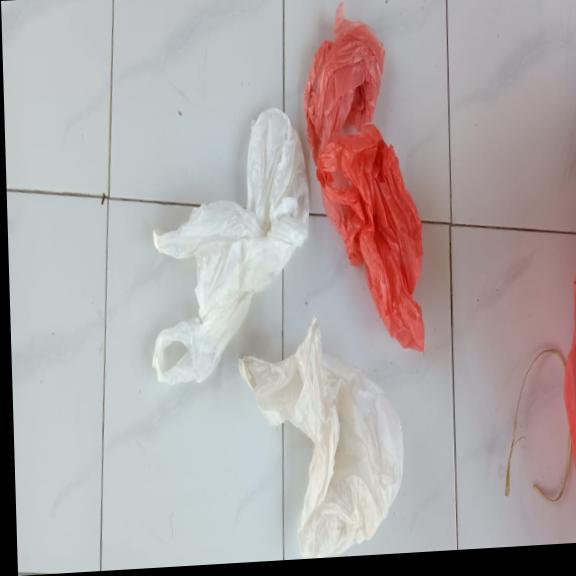Plastik: (144, 103, 314, 387), (299, 0, 424, 362), (236, 314, 406, 563)
